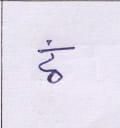ai_matra: (44, 40, 52, 48)
